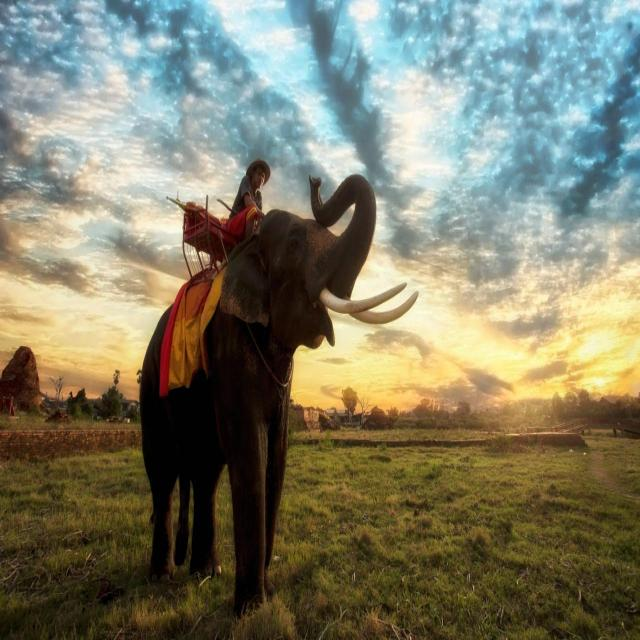Elephant: (111, 142, 429, 612)
